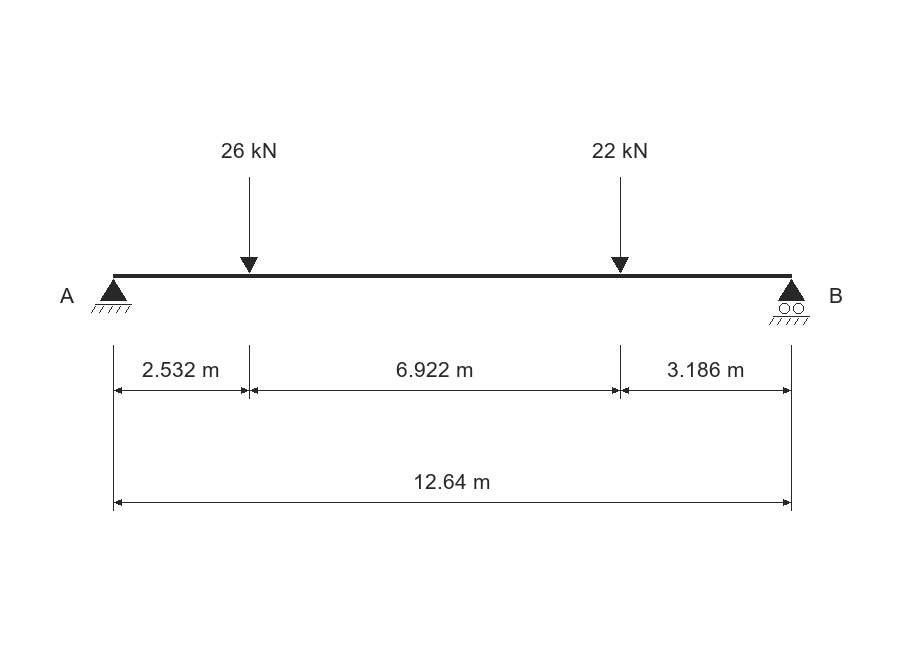pin_support: (91, 279, 132, 313)
point_load: (240, 177, 258, 273), (611, 177, 629, 273)
roller_support: (769, 279, 810, 325)
